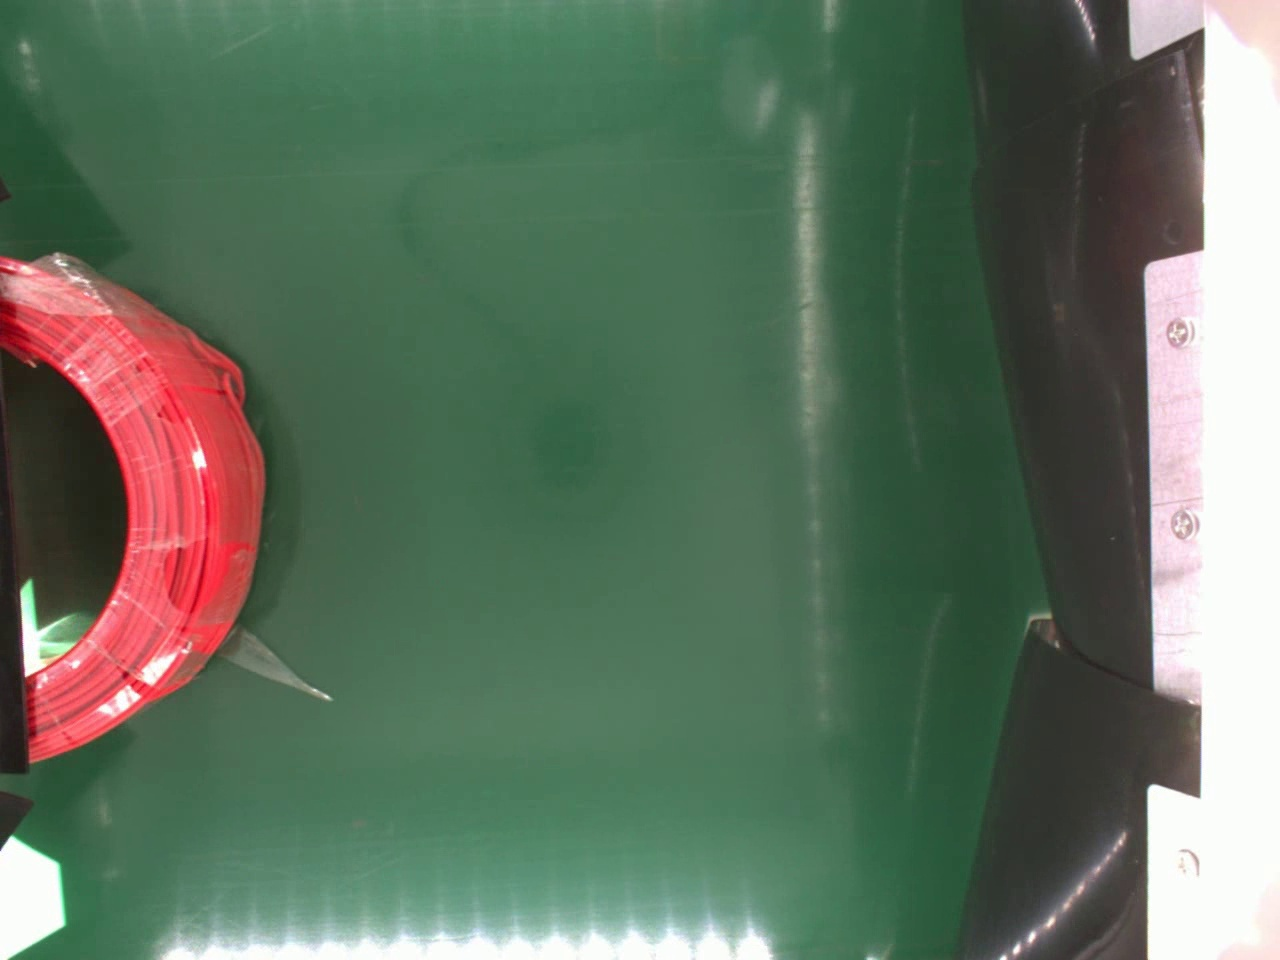red: (0, 248, 264, 763)
